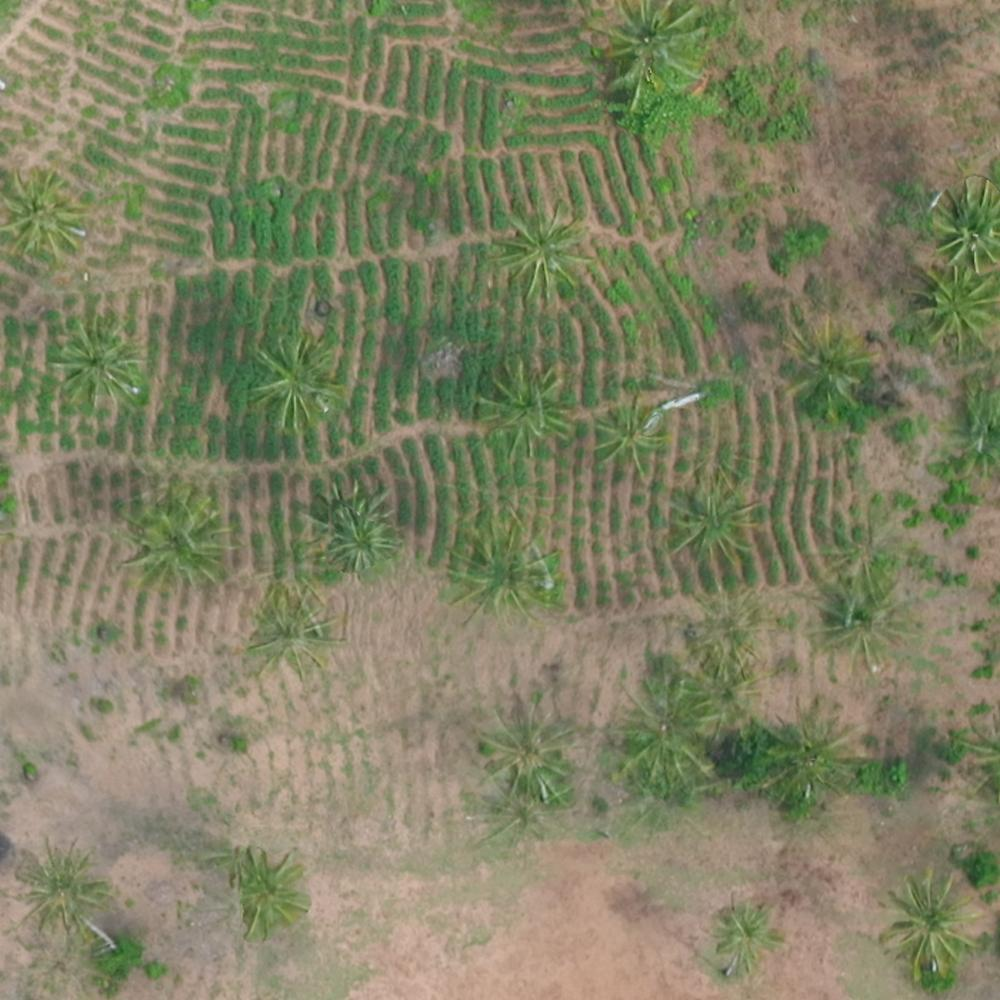Palm: (605, 1, 710, 111), (609, 674, 716, 781), (448, 517, 554, 623), (120, 490, 226, 586), (885, 873, 980, 975), (494, 197, 590, 296), (759, 706, 857, 801), (805, 575, 907, 665), (245, 334, 340, 428), (9, 845, 108, 935), (243, 582, 336, 675), (480, 360, 572, 454), (481, 701, 572, 796), (50, 316, 143, 405), (310, 485, 403, 574), (3, 167, 86, 264), (782, 316, 868, 409), (229, 846, 314, 938), (909, 258, 1000, 342), (661, 479, 752, 561), (925, 177, 1000, 265), (592, 393, 670, 476), (709, 895, 786, 974)
